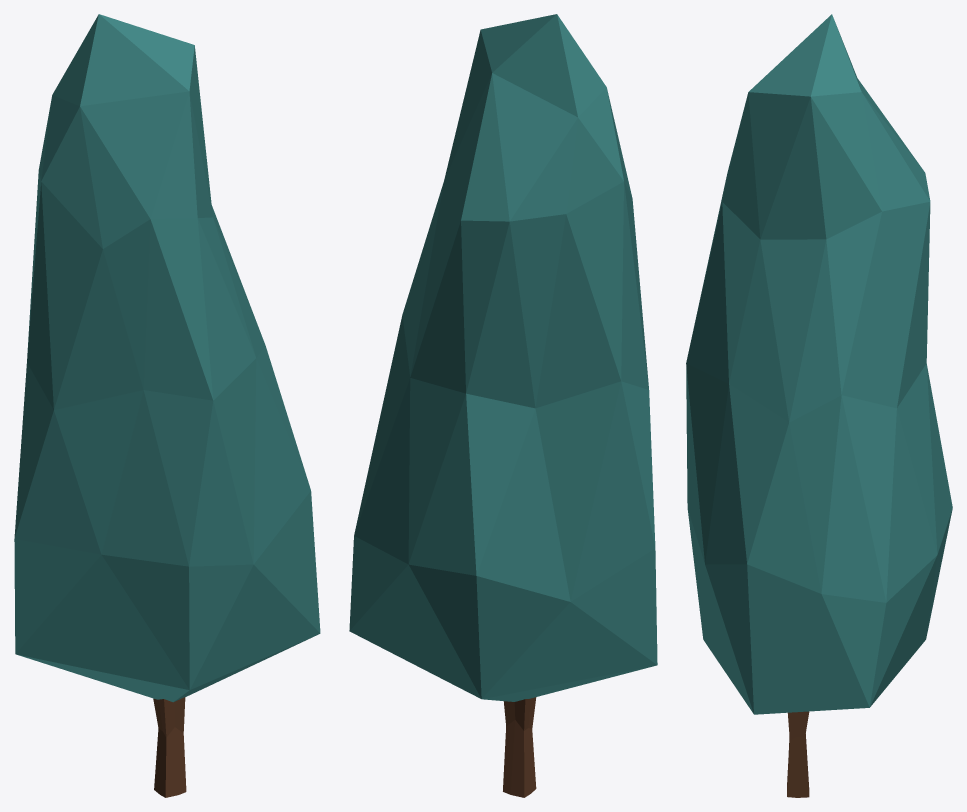
Rendered from Tree_4_Blue.fbx.
The picture shows the model from 3 angles, left to right: view 1: azimuth 30°, elevation 25°; view 2: azimuth 150°, elevation 25°; view 3: azimuth 270°, elevation 25°; orthographic projection. The views are drawn at different scales.
Visible parts, largest first — view 1: Tree_4_Blue_Part_1, Tree_4_Blue_Part_2; view 2: Tree_4_Blue_Part_1, Tree_4_Blue_Part_2; view 3: Tree_4_Blue_Part_1, Tree_4_Blue_Part_2.
Boxes of the visible parts, x1,y1,x2,y2 form: Tree_4_Blue_Part_1: [14, 14, 320, 702]; Tree_4_Blue_Part_2: [153, 697, 186, 797]; Tree_4_Blue_Part_1: [349, 14, 657, 701]; Tree_4_Blue_Part_2: [503, 697, 536, 797]; Tree_4_Blue_Part_1: [686, 14, 952, 714]; Tree_4_Blue_Part_2: [787, 711, 809, 797].
Size of the model in its own units: 295 by 795 by 254.
